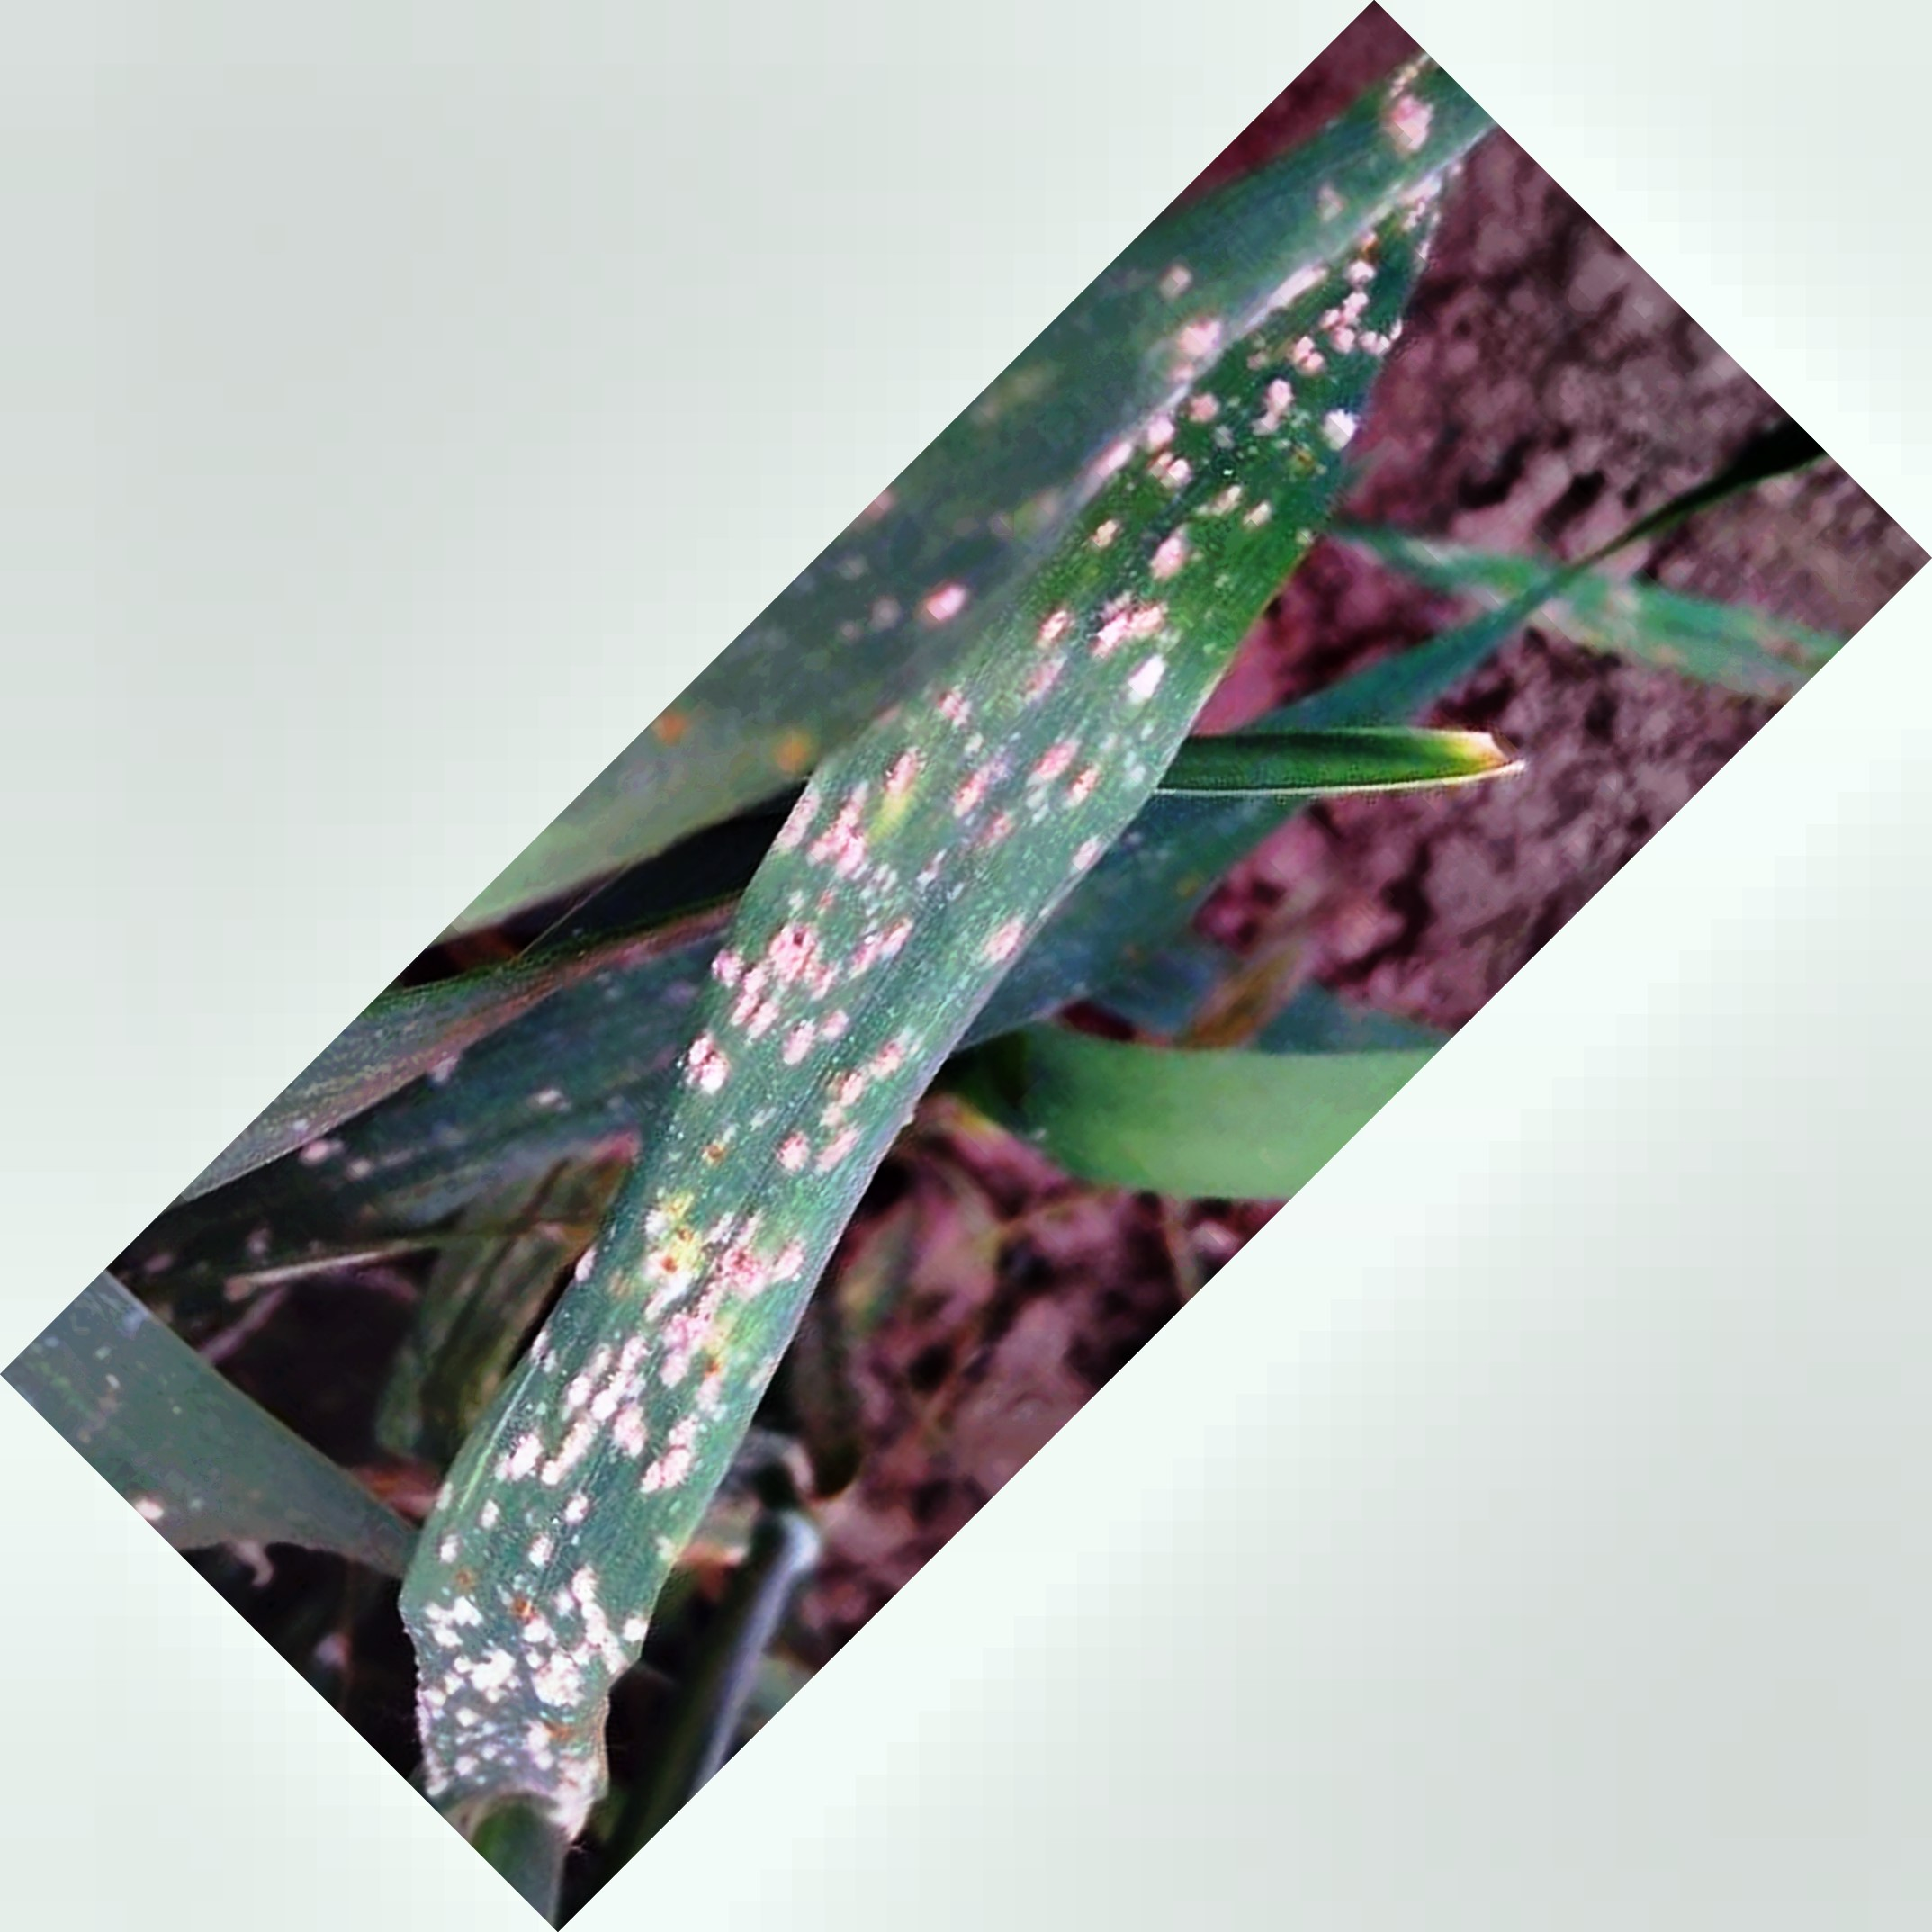Powdery Mildew: (444, 386, 1288, 1748)
